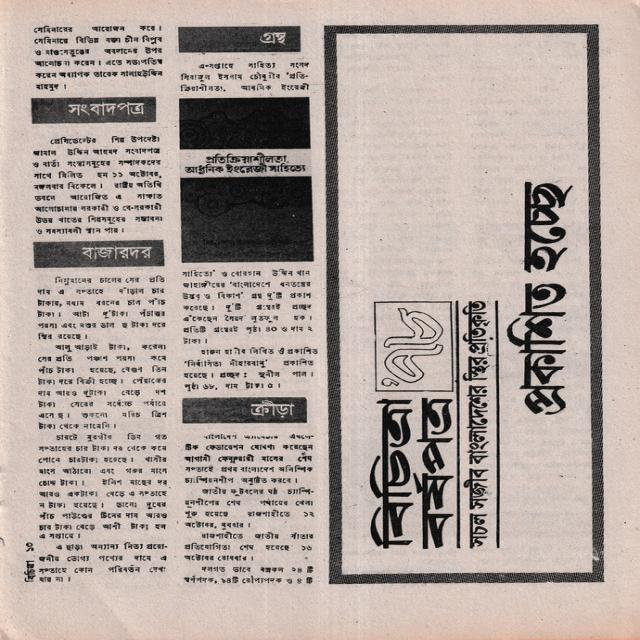advertisement: (326, 25, 603, 583)
image: (180, 177, 312, 262), (180, 98, 309, 149)
page number: (23, 542, 37, 553)
paragraph: (35, 431, 171, 540), (30, 134, 165, 237), (34, 341, 169, 431), (179, 267, 317, 347), (28, 21, 167, 93), (34, 273, 169, 341), (180, 430, 319, 487), (175, 343, 322, 395), (179, 484, 321, 531), (35, 540, 172, 584), (174, 59, 315, 94), (181, 529, 318, 565), (180, 563, 317, 590)
text: (21, 559, 38, 583)
title: (176, 150, 310, 177), (34, 241, 165, 268), (32, 98, 156, 124), (183, 398, 306, 424), (178, 26, 301, 52)
